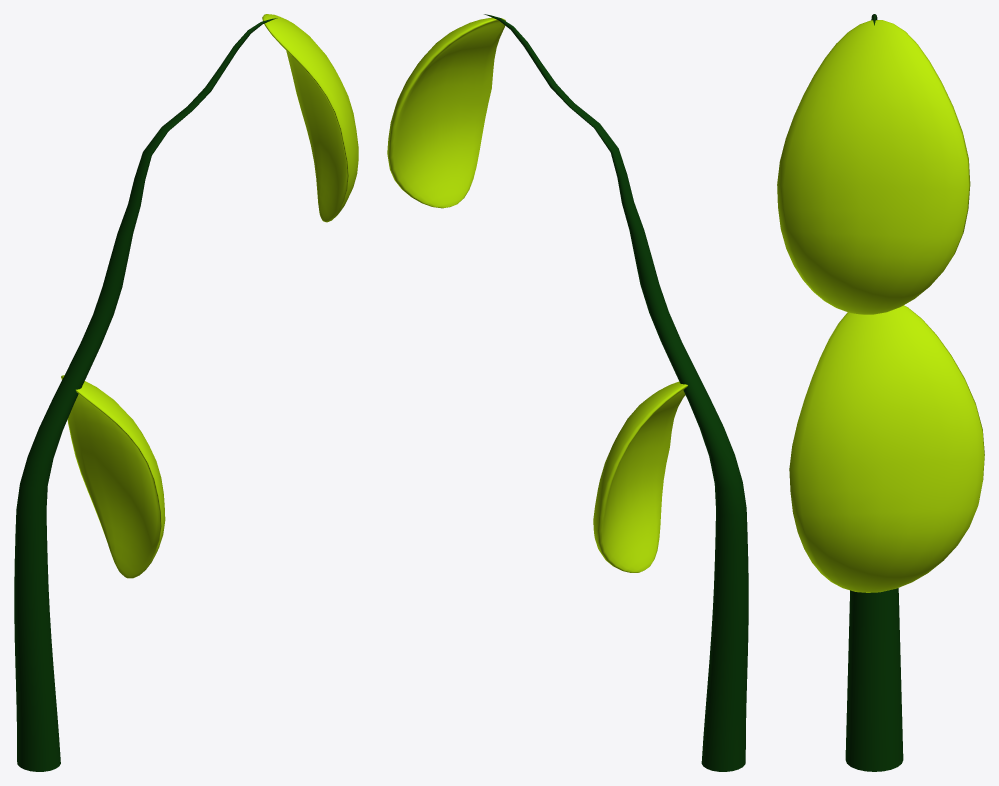
The model's file is Plant 3 Stage 0.fbx.
The picture shows the model from 3 angles, left to right: view 1: azimuth 30°, elevation 25°; view 2: azimuth 150°, elevation 25°; view 3: azimuth 270°, elevation 25°; orthographic projection. The views are drawn at different scales.
Parts seen in each view (by area): view 1: pasted__pCone1, pasted__pasted__pasted__pSphere2, pasted__pasted__pSphere2; view 2: pasted__pCone1, pasted__pasted__pSphere2, pasted__pasted__pasted__pSphere2; view 3: pasted__pasted__pasted__pSphere2, pasted__pasted__pSphere2, pasted__pCone1.
Boxes of the visible parts, x1,y1,x2,y2 form: pasted__pCone1: [14, 18, 277, 771]; pasted__pasted__pasted__pSphere2: [61, 375, 165, 578]; pasted__pasted__pSphere2: [262, 14, 358, 222]; pasted__pCone1: [484, 14, 748, 771]; pasted__pasted__pSphere2: [387, 17, 505, 208]; pasted__pasted__pasted__pSphere2: [593, 381, 687, 572]; pasted__pasted__pasted__pSphere2: [789, 305, 984, 592]; pasted__pasted__pSphere2: [777, 20, 970, 314]; pasted__pCone1: [845, 14, 903, 771].
Size of the model in its own units: 1.72 by 3.38 by 0.7191.
